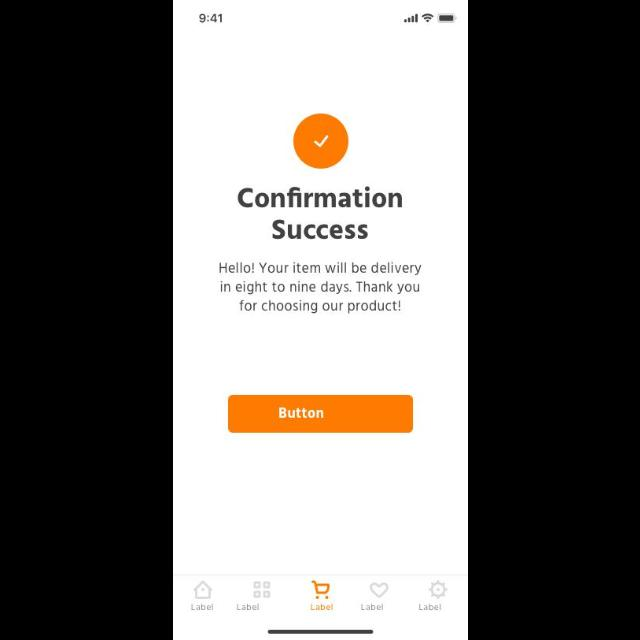icon: (293, 114, 349, 170), (192, 580, 212, 600), (310, 580, 330, 600), (428, 581, 448, 599), (252, 580, 270, 598), (368, 582, 388, 598)
text: (217, 260, 421, 314), (235, 186, 402, 240), (188, 602, 214, 612), (235, 602, 259, 612), (309, 602, 333, 612), (359, 602, 383, 612), (417, 602, 441, 612)
textbutton: (227, 395, 413, 433)
uppertaskbar: (198, 13, 458, 24)
